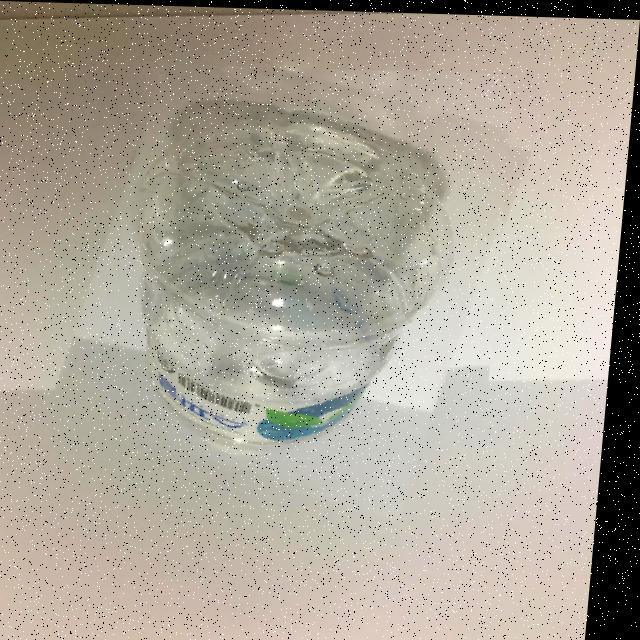plasticbottle: (69, 60, 518, 501)
